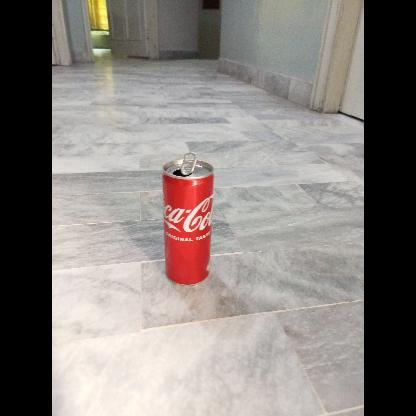Lid_Open: (168, 150, 198, 180)
Tin_Can: (162, 152, 214, 286)
